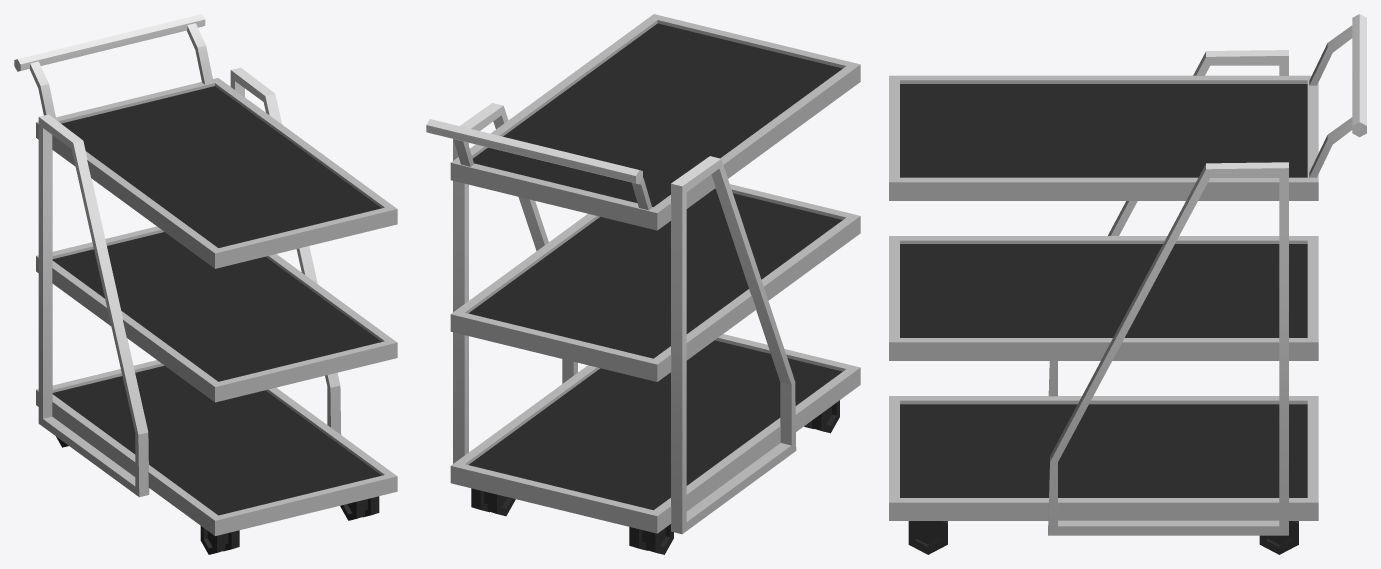
File: kitchen_cart.fbx
3 renders of one model, left to right at view 1: azimuth 30°, elevation 25°; view 2: azimuth 150°, elevation 25°; view 3: azimuth 270°, elevation 25°, orthographic. The views are drawn at different scales.
Parts seen in each view (by area): view 1: kitchen_cart; view 2: kitchen_cart; view 3: kitchen_cart.
Boxes of the visible parts, x1,y1,x2,y2 form: kitchen_cart: (14, 14, 397, 554); kitchen_cart: (426, 14, 860, 554); kitchen_cart: (889, 14, 1366, 554).
Bounding box in the file's own units: 0.6954 × 1.21 × 1.19.
1 material, 1 textured.
